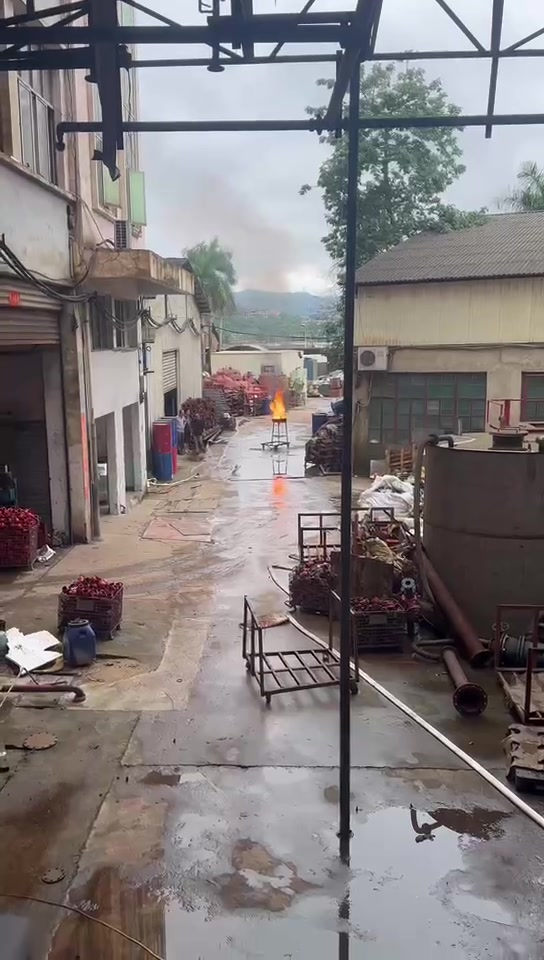fire: (268, 390, 286, 418)
